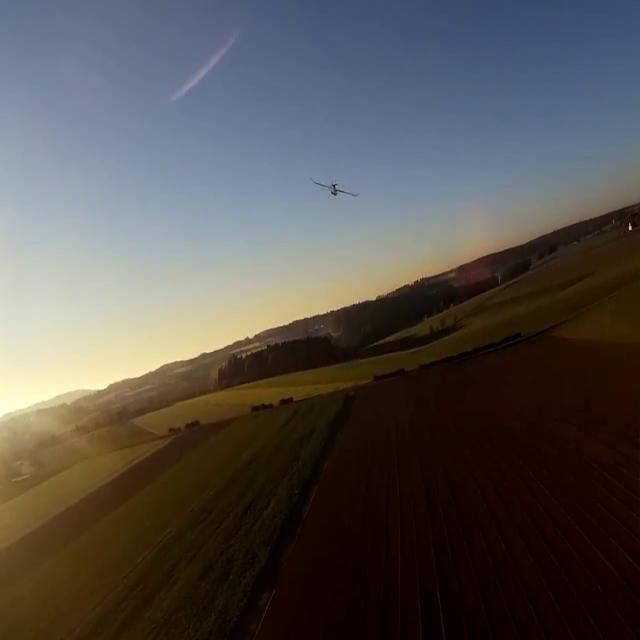iha: (309, 177, 360, 198)
